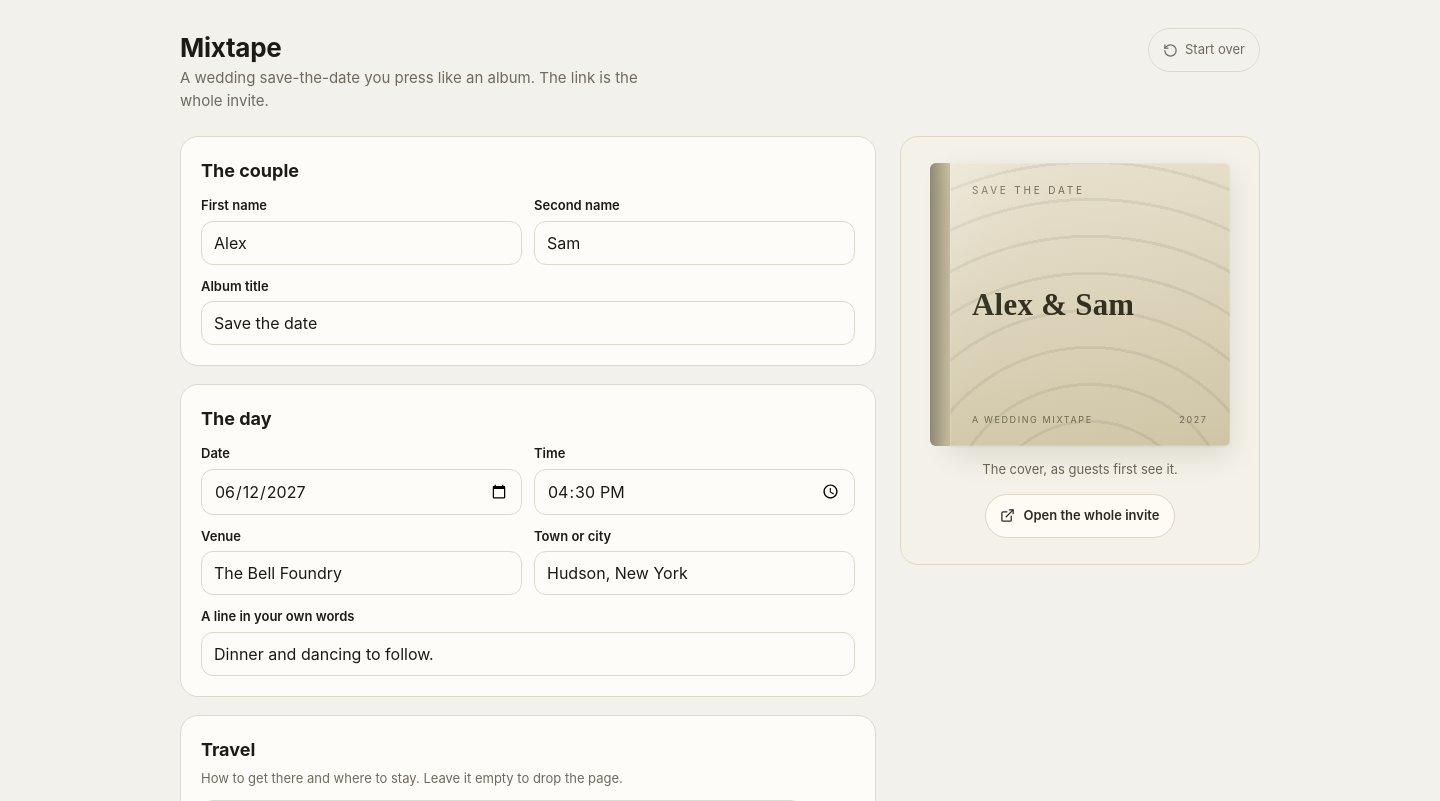
builder › typing a name updates the cover preview
Replace the text in the field labelled "First name" with "Robin" at (362, 242), box [201,220,522,264]
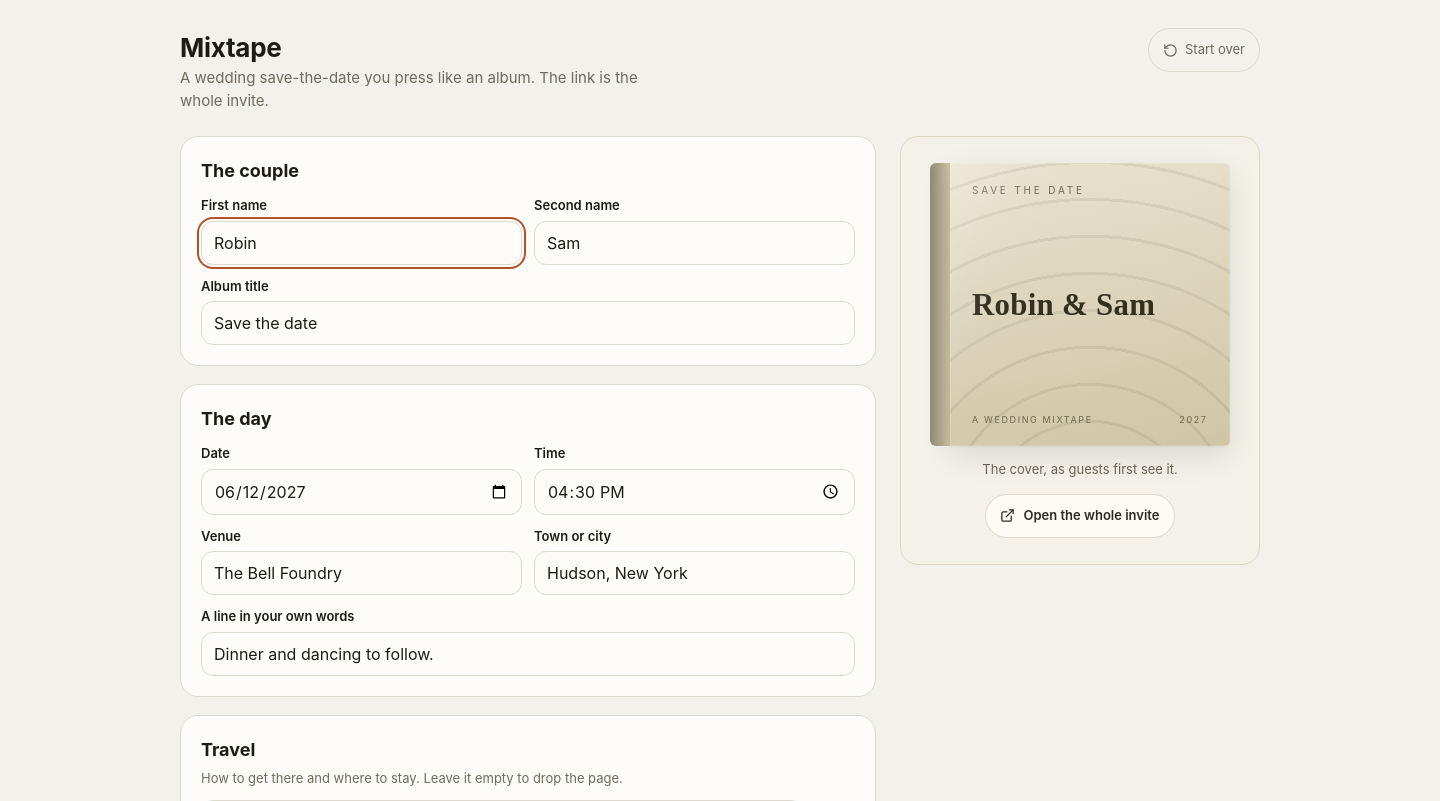
Expected: the text "Robin & Sam" is shown, [972,288,1155,322]
